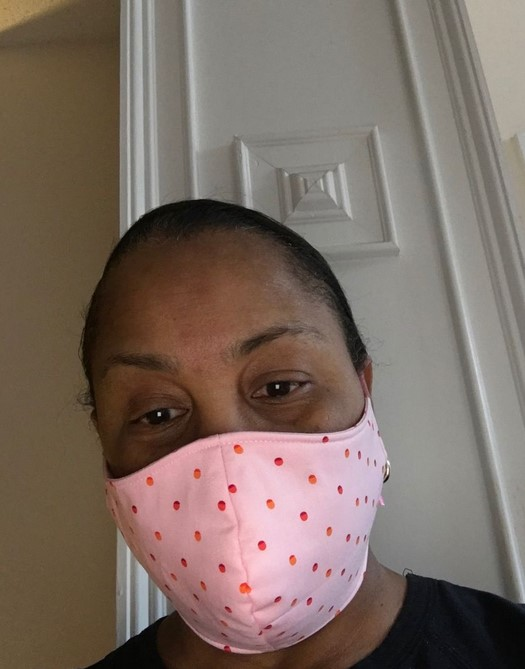face_with_mask: (82, 213, 385, 654)
